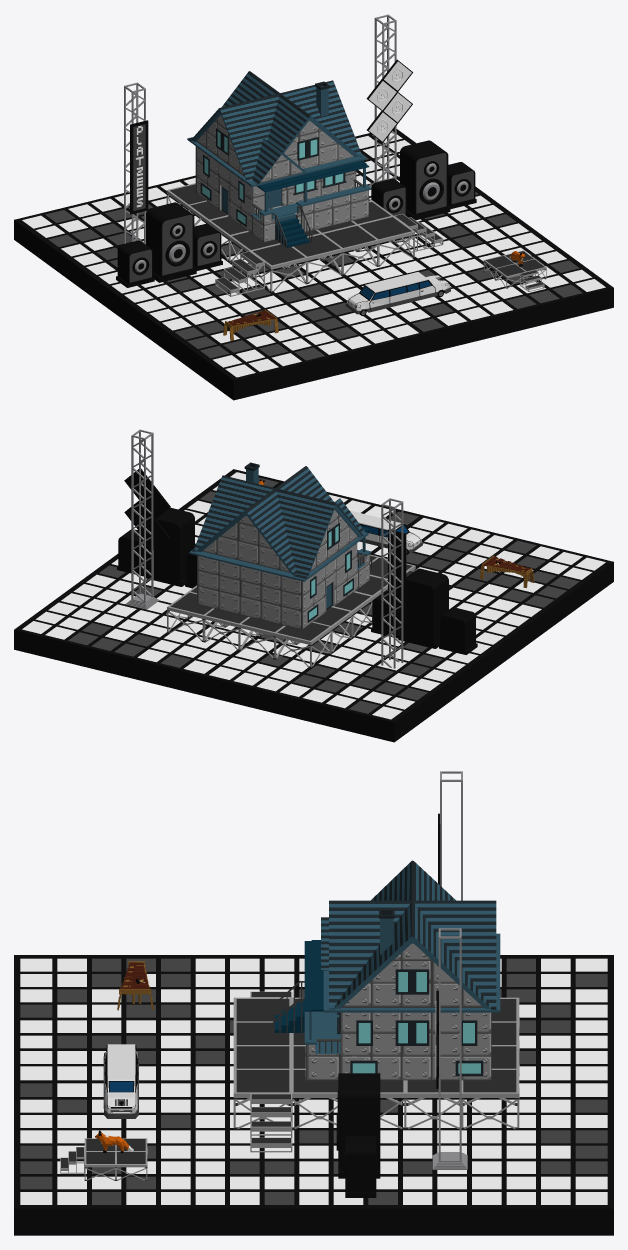
3 renders of one model, top to bottom at view 1: azimuth 30°, elevation 25°; view 2: azimuth 150°, elevation 25°; view 3: azimuth 270°, elevation 25°, orthographic. The views are drawn at different scales.
Visible parts, largest first — view 1: Cube.008, Cube.078, VEHICLES_LIMOUSINE, OBJRANDOM_MARIMBA; view 2: Cube.008, Cube.078, VEHICLES_LIMOUSINE, OBJRANDOM_MARIMBA; view 3: Cube.008, Cube.078, VEHICLES_LIMOUSINE, OBJRANDOM_MARIMBA.
Part boxes in pixels (left/top/right/bottom): Cube.008: left=14, top=14, right=613, bottom=400; Cube.078: left=187, top=71, right=371, bottom=248; VEHICLES_LIMOUSINE: left=345, top=272, right=450, bottom=315; OBJRANDOM_MARIMBA: left=223, top=309, right=278, bottom=340; Cube.008: left=14, top=429, right=613, bottom=742; Cube.078: left=189, top=462, right=372, bottom=629; VEHICLES_LIMOUSINE: left=350, top=510, right=423, bottom=554; OBJRANDOM_MARIMBA: left=480, top=555, right=534, bottom=588; Cube.008: left=14, top=771, right=613, bottom=1235; Cube.078: left=272, top=860, right=500, bottom=1080; VEHICLES_LIMOUSINE: left=103, top=1044, right=138, bottom=1118; OBJRANDOM_MARIMBA: left=117, top=961, right=153, bottom=1010.
Bounding box in the file's own units: 4000 × 1972 × 4000.
43 materials, 3 textured.
